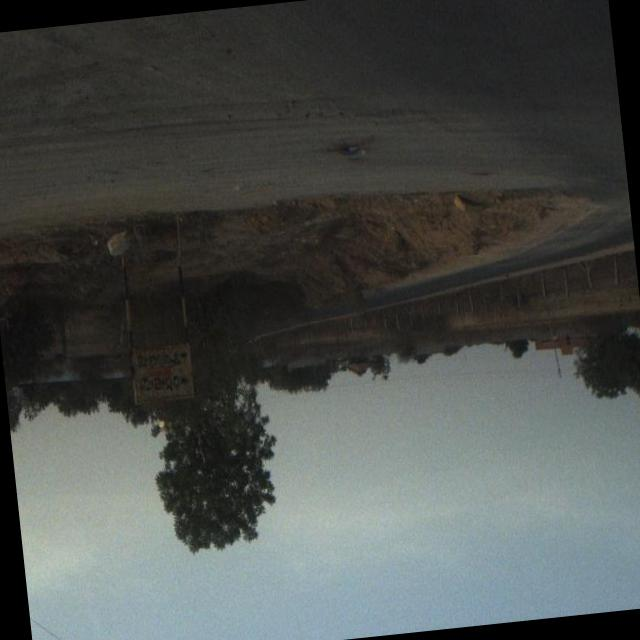pothole: (5, 19, 130, 97), (306, 94, 394, 184)
